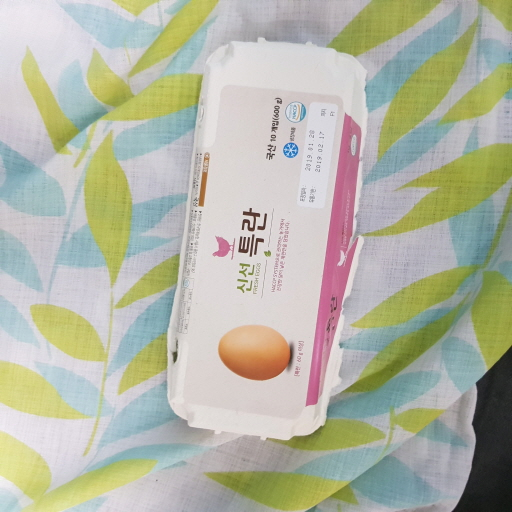Paper_0: (163, 34, 378, 447)
